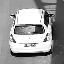mobil: (8, 7, 55, 55)
